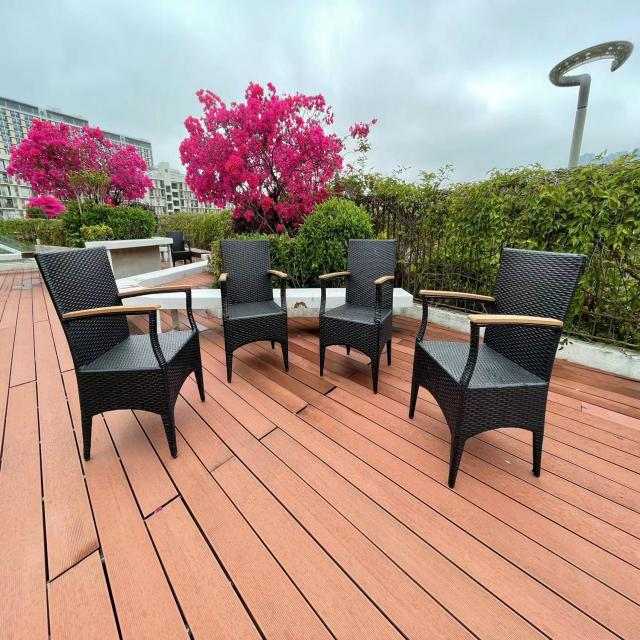chair: (409, 228, 593, 499), (33, 238, 205, 460), (314, 228, 399, 394), (218, 236, 294, 383)
